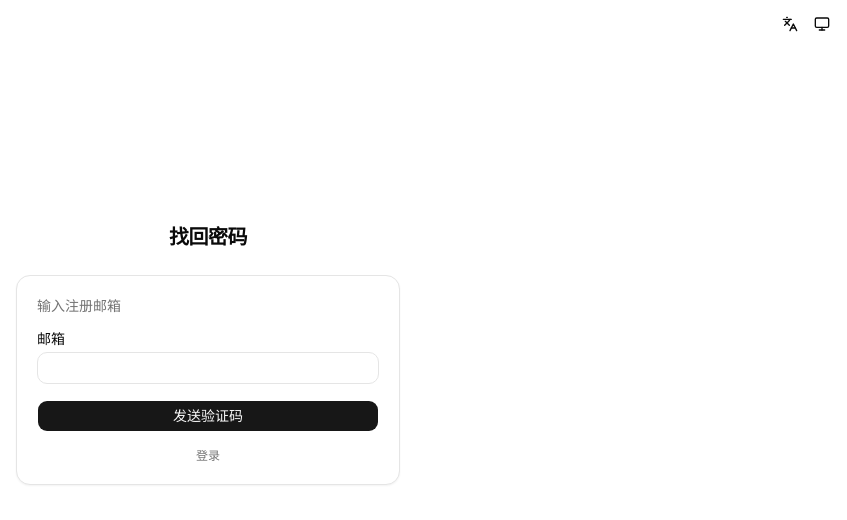
找回密码 › 429 按 retryAfter 起倒计时
The width and height of the screenshot is (847, 520).
Type "owner@example.com" into the field labelled "邮箱".
click(208, 368); type("owner@example.com")  # box top-left (37, 352), bottom-right (379, 384)
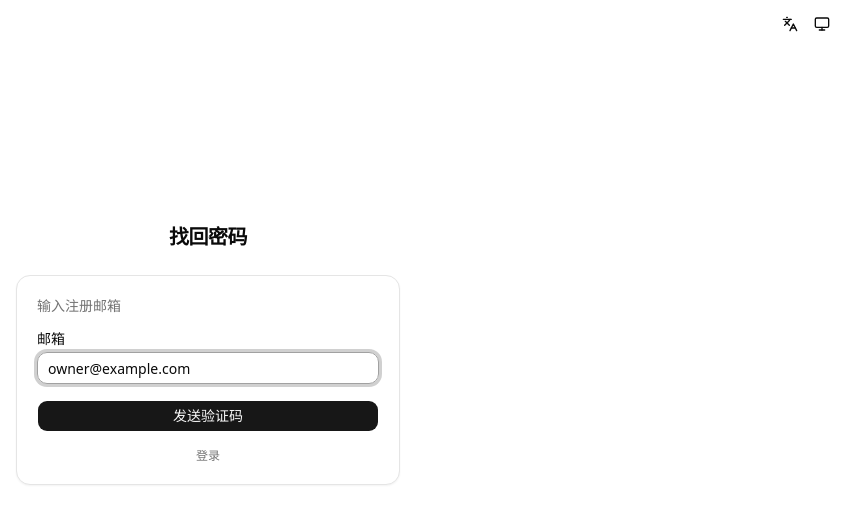
Click the button "发送验证码".
click(208, 416)  # box top-left (37, 400), bottom-right (379, 432)
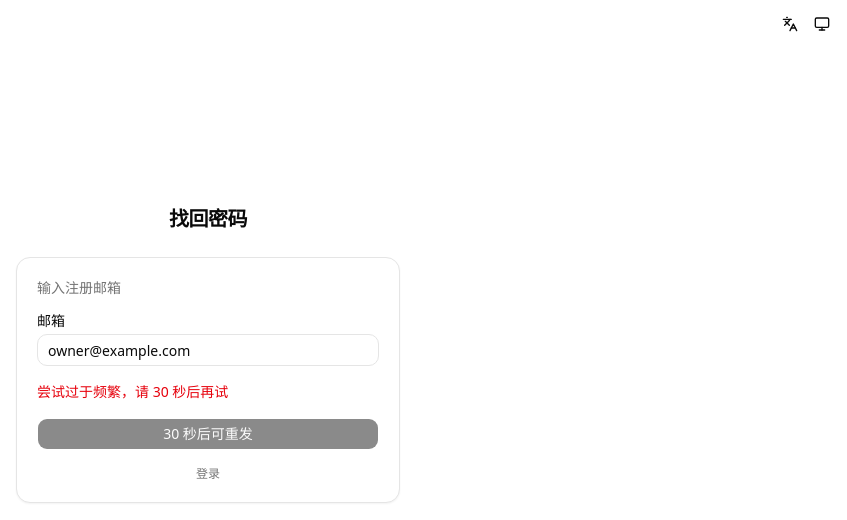
Check: the button "30 秒后可重发" is disabled, box top-left (37, 418), bottom-right (379, 450)
Check: the message reads "尝试过于频繁，请 30 秒后再试", box top-left (37, 382), bottom-right (228, 401)
